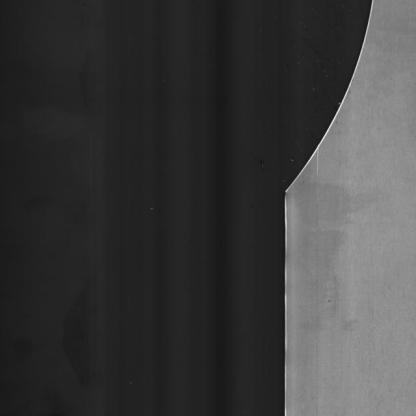crescent_gap: (275, 0, 379, 218)
